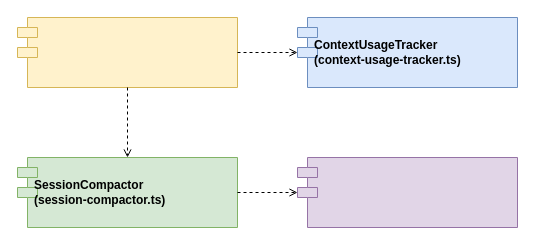
Image size: 535x245. Some labels were removed from this diagram. Each missing label, with the centre of its shape:
ChatPanelProvider (chat-panel-provider.ts): (127,52)
Summarizer (summarizer.ts): (407,192)
